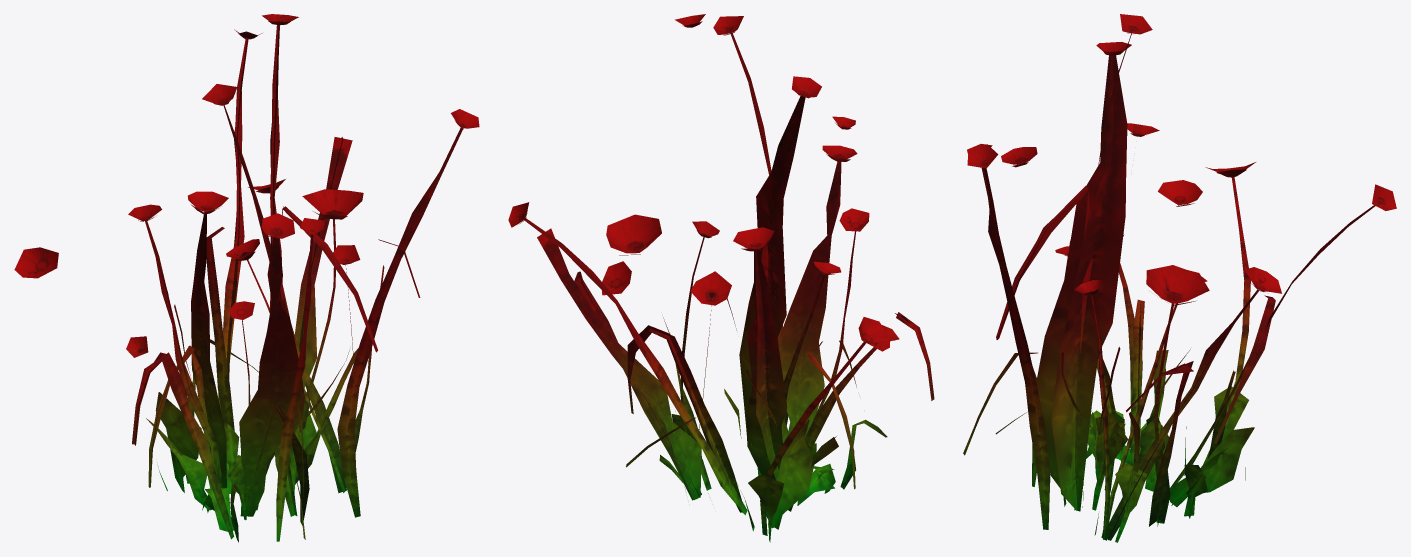
Rendered from White Everlasting_LOD1_Var3_ucvobbbia.glb.
3 views of the same model, side by side, from view 1: azimuth 30°, elevation 25°; view 2: azimuth 150°, elevation 25°; view 3: azimuth 270°, elevation 25° (orthographic). The views are drawn at different scales.
Visible parts, largest first — view 1: _e274_Var3_LOD1; view 2: _e274_Var3_LOD1; view 3: _e274_Var3_LOD1.
Boxes of the visible parts, <box> form: _e274_Var3_LOD1: <box>14,14,479,542</box>; _e274_Var3_LOD1: <box>508,14,934,542</box>; _e274_Var3_LOD1: <box>963,14,1396,542</box>.
Bounding box in the file's own units: 0.458 × 0.6165 × 0.4811.
Materials: 1 (1 with a texture image).
